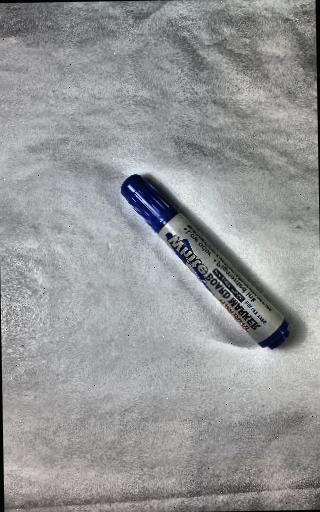marcador azul: (121, 174, 290, 349)
